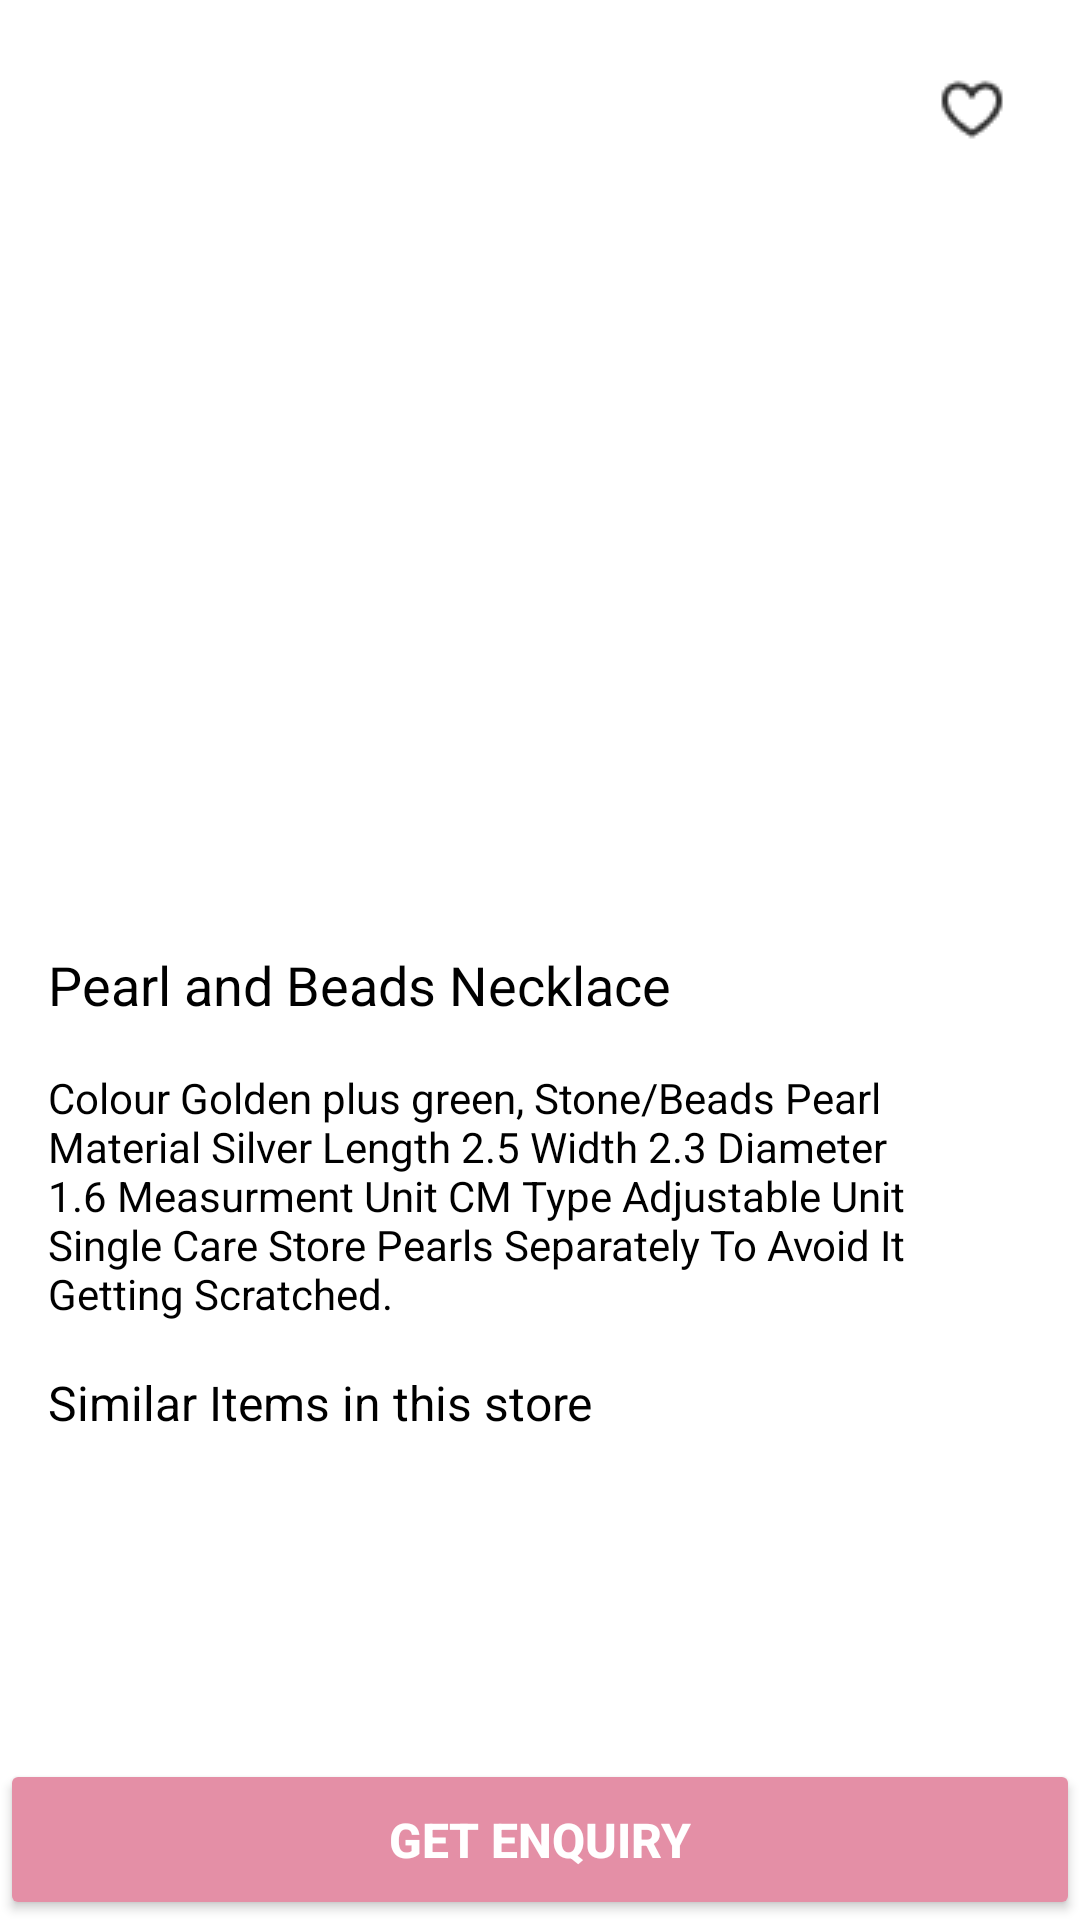

Screen size 1080x1920. Icon name, then its box in pixels as (x1, y1, x2, y2):
heart: (941, 80, 1003, 139)
